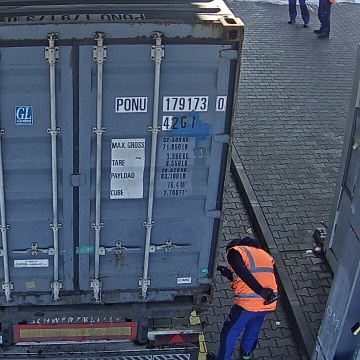serial_id: (116, 97, 224, 111)
